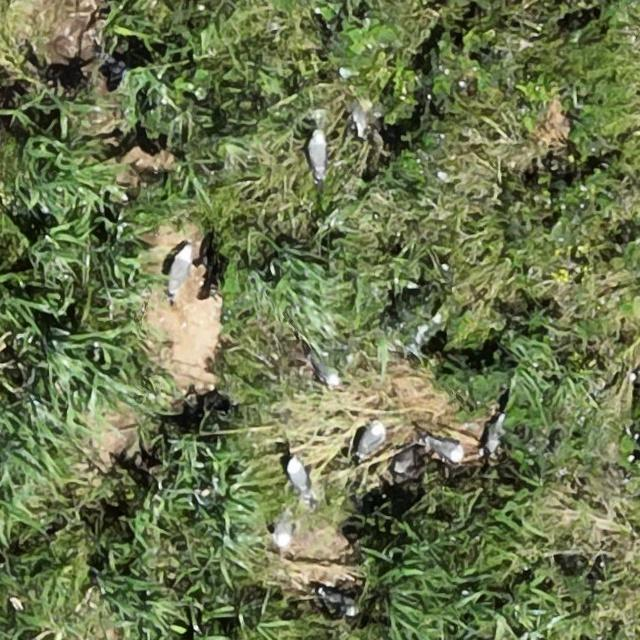umineko: (310, 349, 340, 384), (169, 249, 191, 293), (276, 506, 295, 550), (358, 423, 384, 455), (432, 438, 464, 461), (289, 460, 309, 494), (309, 136, 326, 176)
